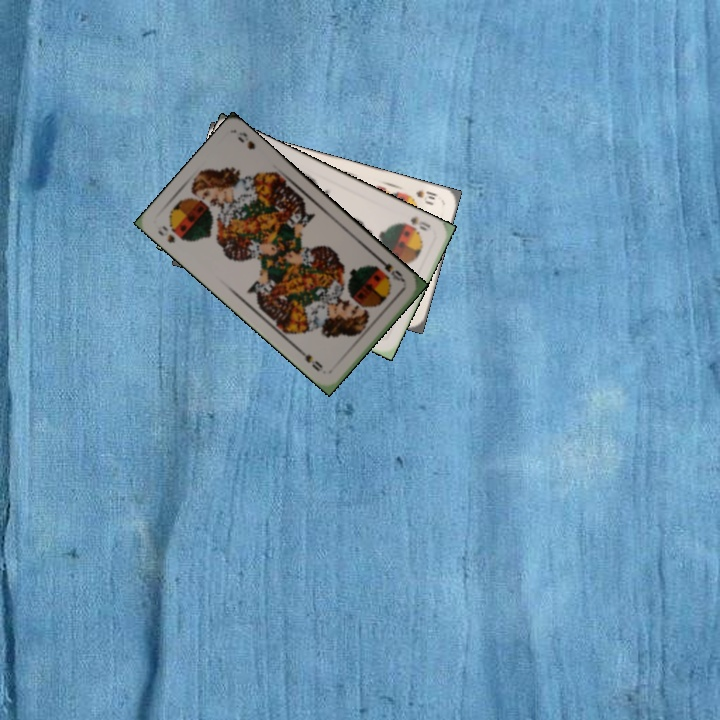S10: (412, 186, 441, 202)
SO: (374, 254, 408, 285), (154, 221, 178, 246), (406, 212, 433, 233)
